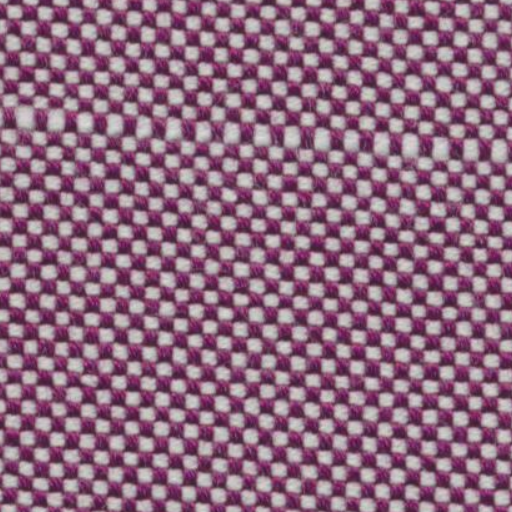TuoSha: (12, 82, 500, 186)
